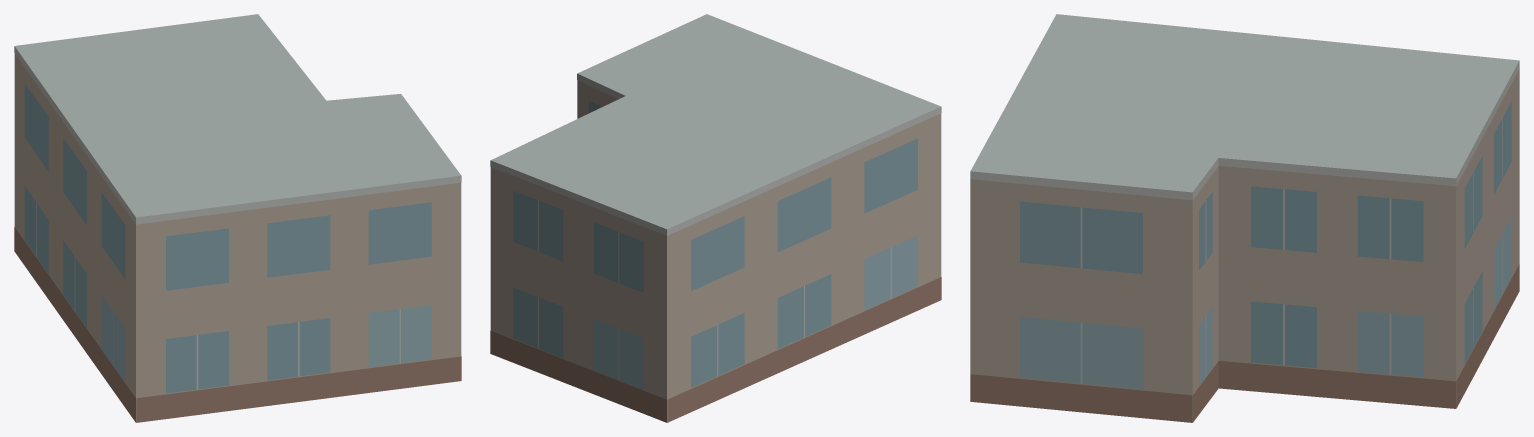
The model's file is survey-upis-32960162.glb.
3 views of the same model, side by side, from view 1: azimuth 30°, elevation 25°; view 2: azimuth 150°, elevation 25°; view 3: azimuth 270°, elevation 25° (orthographic). The views are drawn at different scales.
Parts seen in each view (by area): view 1: survey-upis-32960162.tmp; view 2: survey-upis-32960162.tmp; view 3: survey-upis-32960162.tmp.
Part boxes in pixels (bbox=[...]): survey-upis-32960162.tmp: bbox=[14, 14, 461, 422]; survey-upis-32960162.tmp: bbox=[490, 14, 941, 422]; survey-upis-32960162.tmp: bbox=[970, 14, 1519, 422].
Size of the model in its own units: 11.88 by 7.15 by 15.46.
